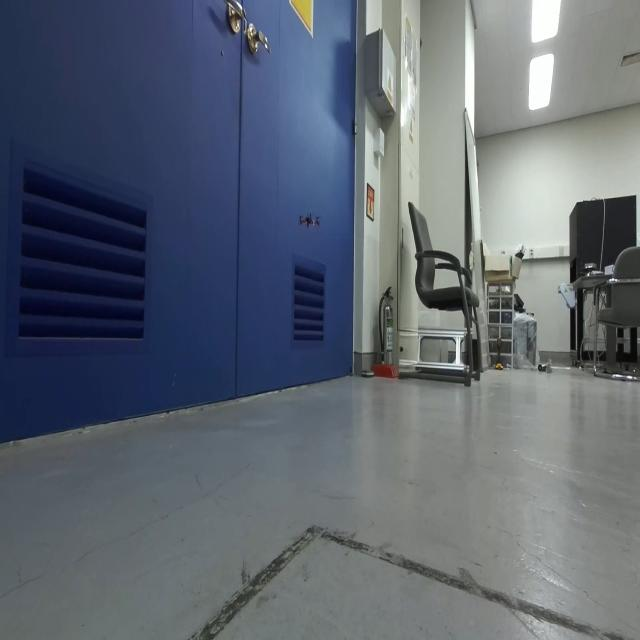crazyflie: (295, 206, 325, 240)
